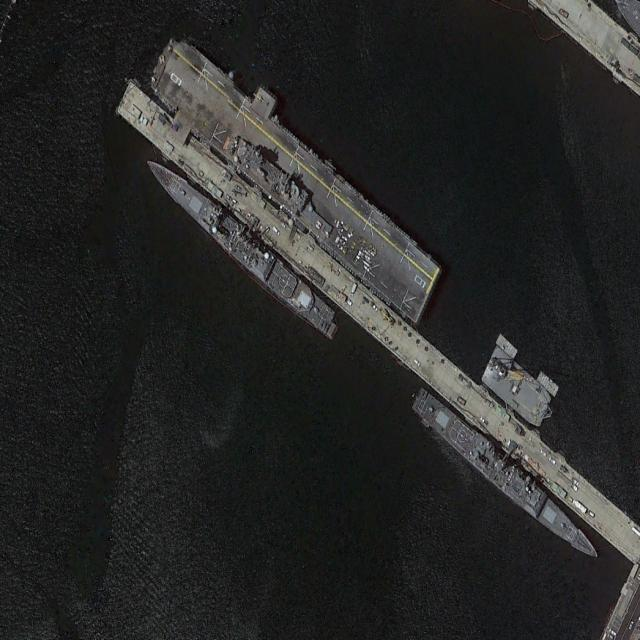Cruiser: (140, 146, 337, 339), (409, 383, 605, 569)
Landing: (137, 16, 450, 339)
